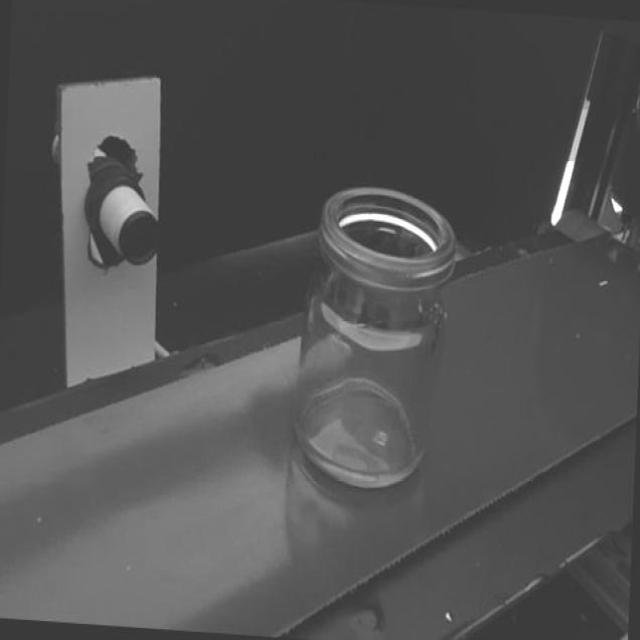glass: (290, 178, 460, 502)
